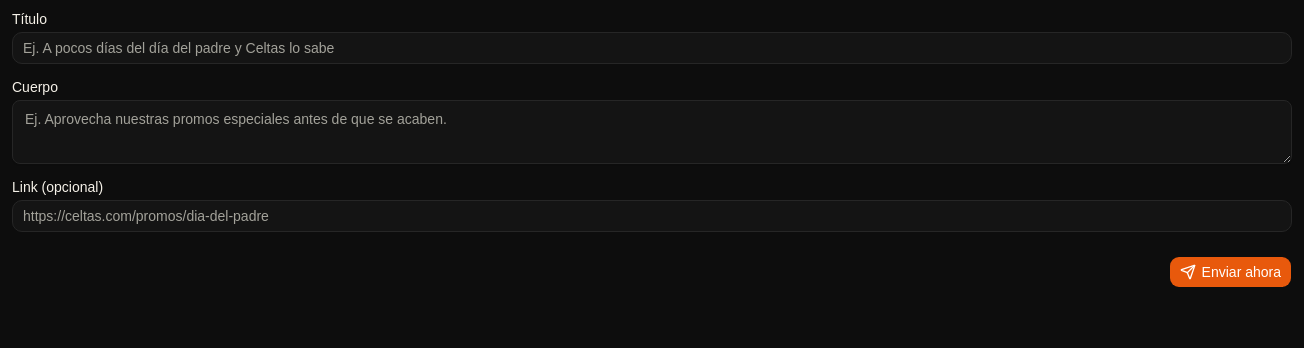
Test case: BroadcastForm › exige título y cuerpo antes de mostrar la confirmación
The image size is (1304, 348).
What coordinates should you click on to do the following:
click the button "Enviar ahora"
I would click on:
 (1230, 272)
Its box is [1169,256,1292,288].
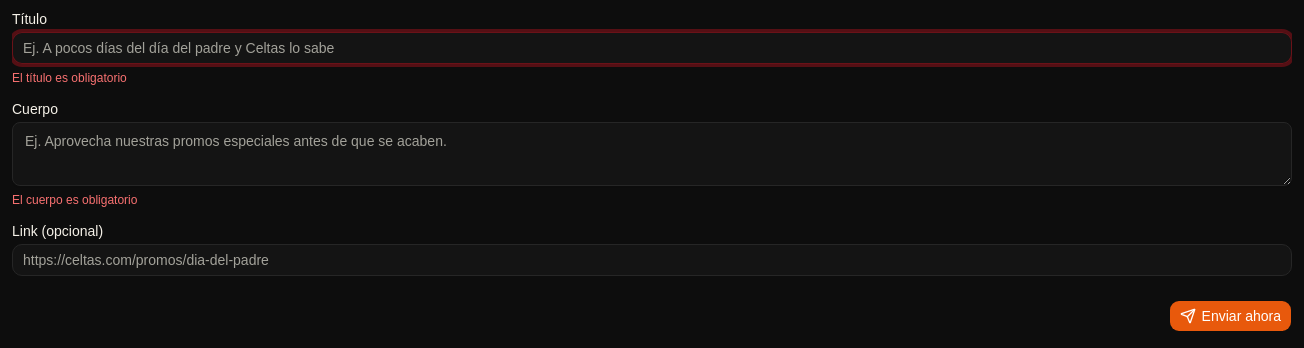
Result: the text "El título es obligatorio" is shown at [12,71,127,85]
Result: the text "El cuerpo es obligatorio" is shown at [12,193,137,207]
